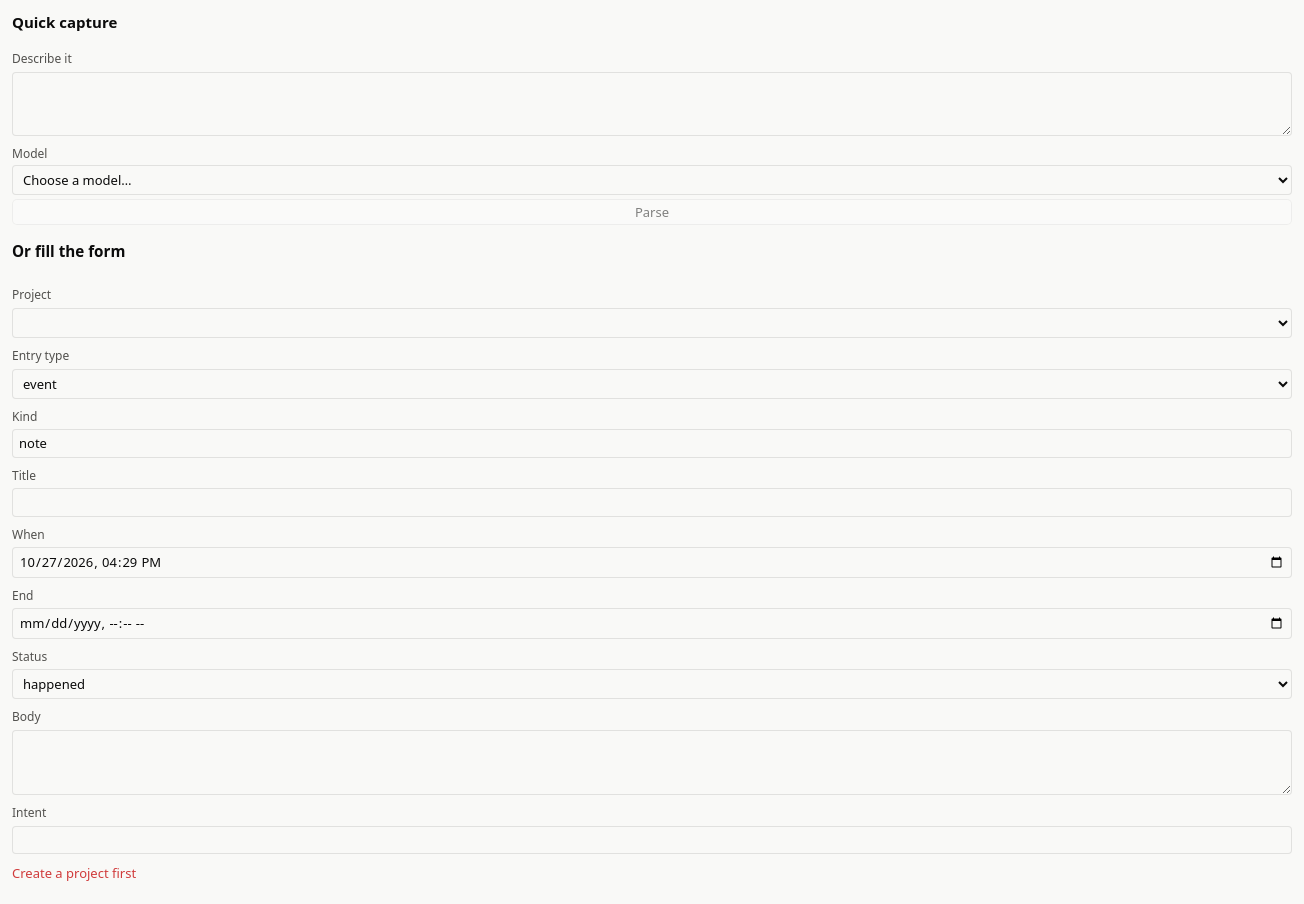
Test case: QuickCapture › disables Save for an event when there are no projects
The image size is (1304, 904).
Check: the text "Create a project first" is shown, box left=12, top=864, right=136, bottom=882
Select "todo" in the dropdown labelled "Entry type" at (652, 384), box left=12, top=369, right=1292, bottom=399
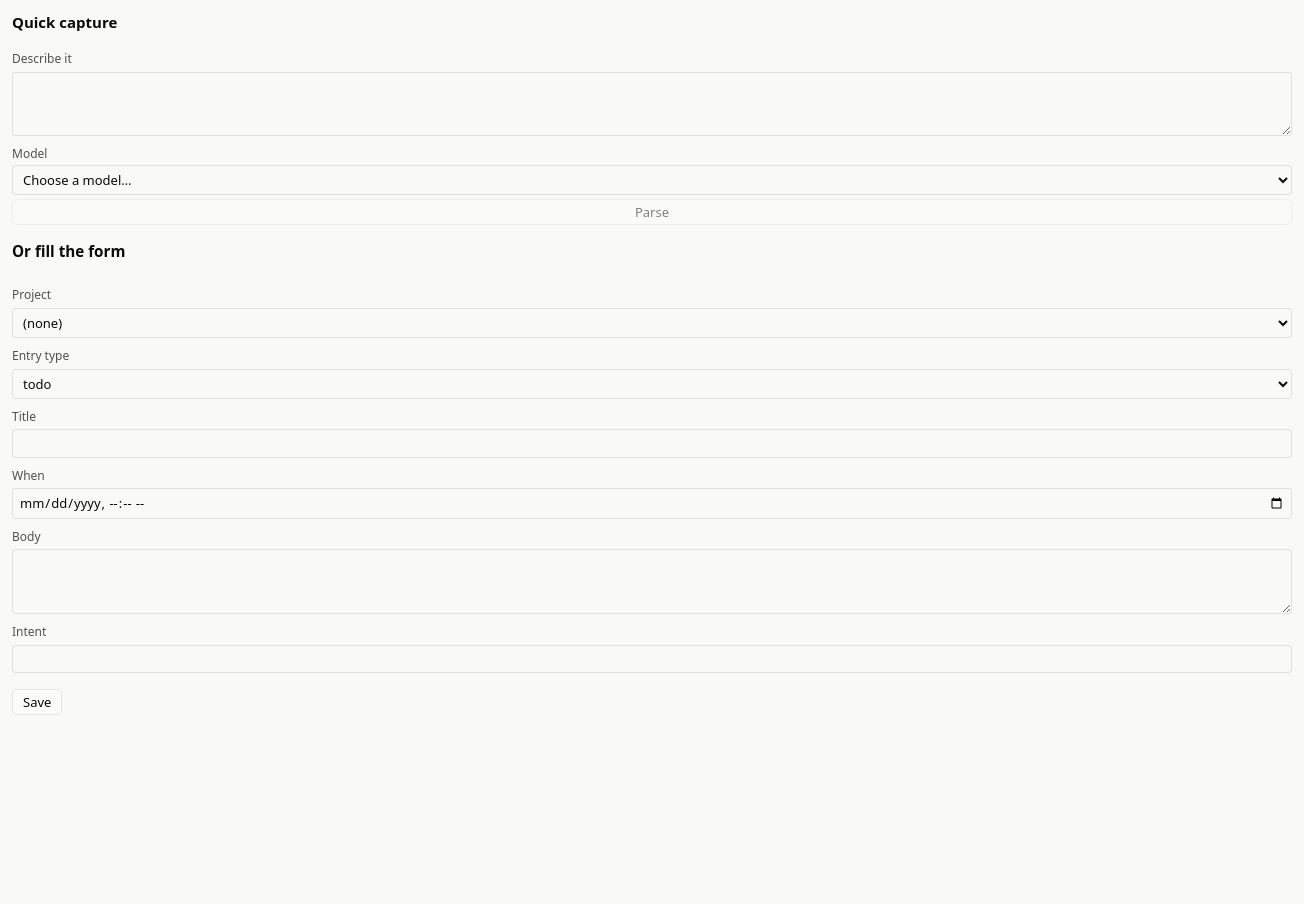
Check: the text "Create a project first" is gone
Check: the button "Save" is enabled, box left=12, top=689, right=62, bottom=715
